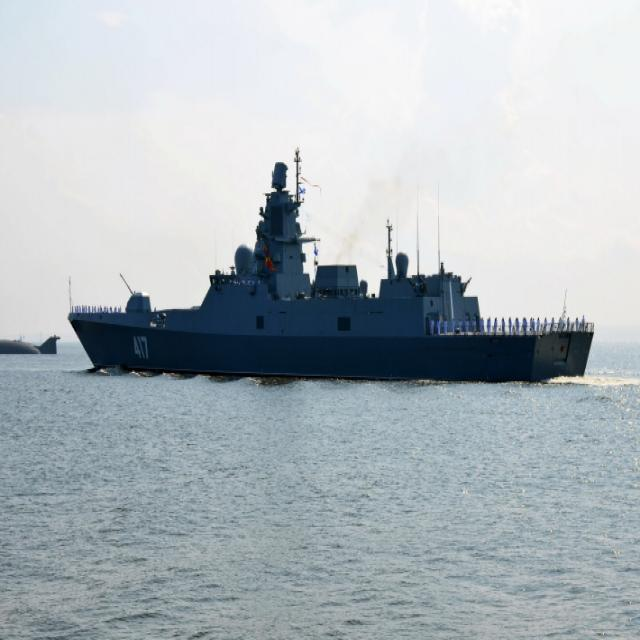Fragata: (68, 151, 599, 382)
